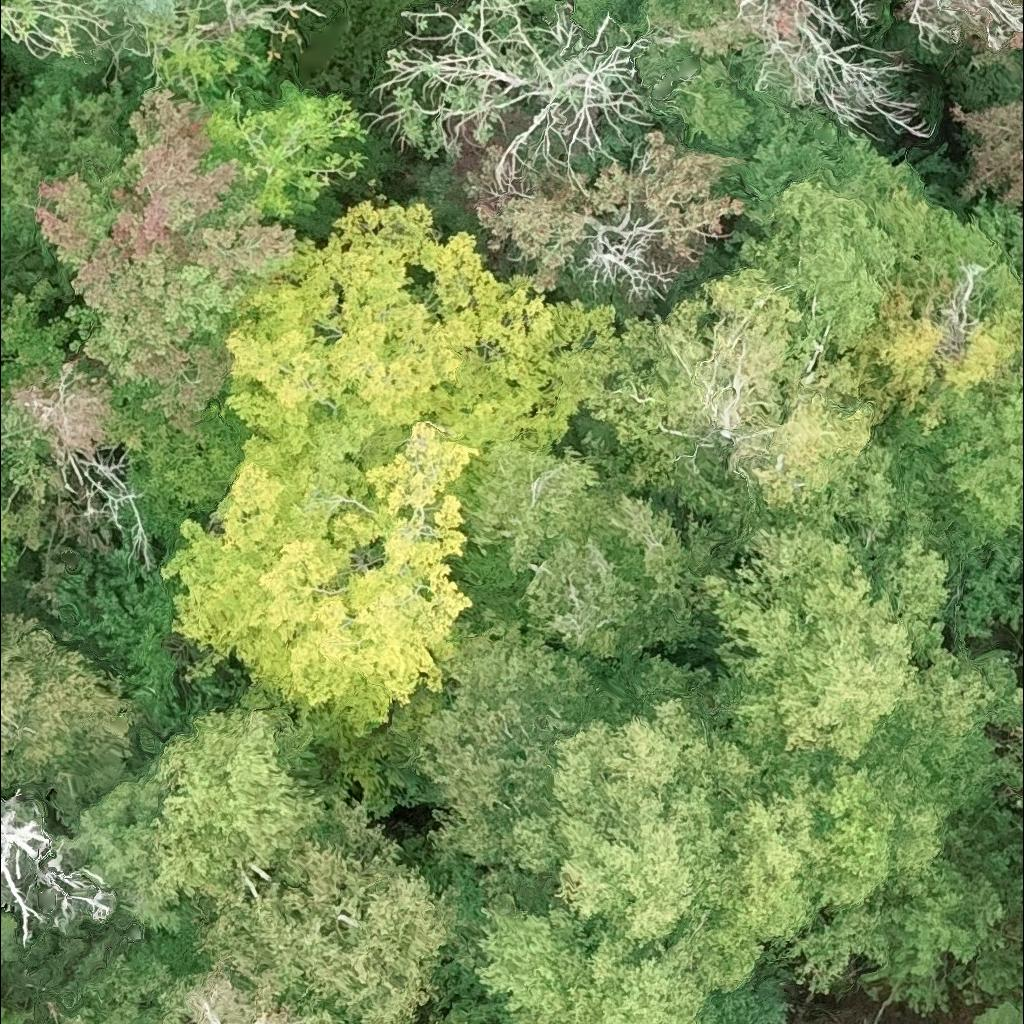crown: (157, 195, 622, 787), (412, 607, 779, 954), (699, 442, 1015, 814), (32, 83, 302, 447), (583, 264, 881, 562), (170, 787, 481, 1023), (455, 430, 734, 662), (691, 759, 945, 991), (389, 0, 652, 198), (0, 282, 149, 583), (880, 335, 1023, 645), (438, 866, 717, 1023), (147, 701, 337, 905), (0, 600, 141, 825), (203, 79, 371, 239), (0, 788, 116, 951), (35, 929, 194, 1023), (155, 953, 345, 1023), (159, 11, 269, 96), (907, 0, 1023, 54), (92, 0, 191, 24), (987, 685, 1023, 735), (970, 996, 1023, 1023), (794, 1003, 852, 1023), (858, 993, 893, 1023), (729, 0, 786, 10), (452, 1019, 490, 1023), (435, 1017, 449, 1023), (1021, 85, 1023, 92)
